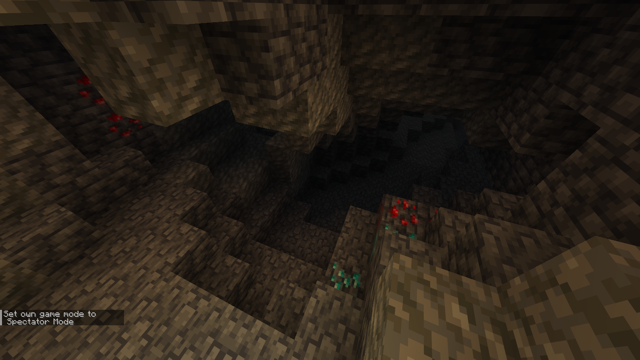diamond: (322, 256, 368, 296), (376, 226, 423, 239)
redstone: (77, 78, 146, 139), (386, 196, 450, 226)
